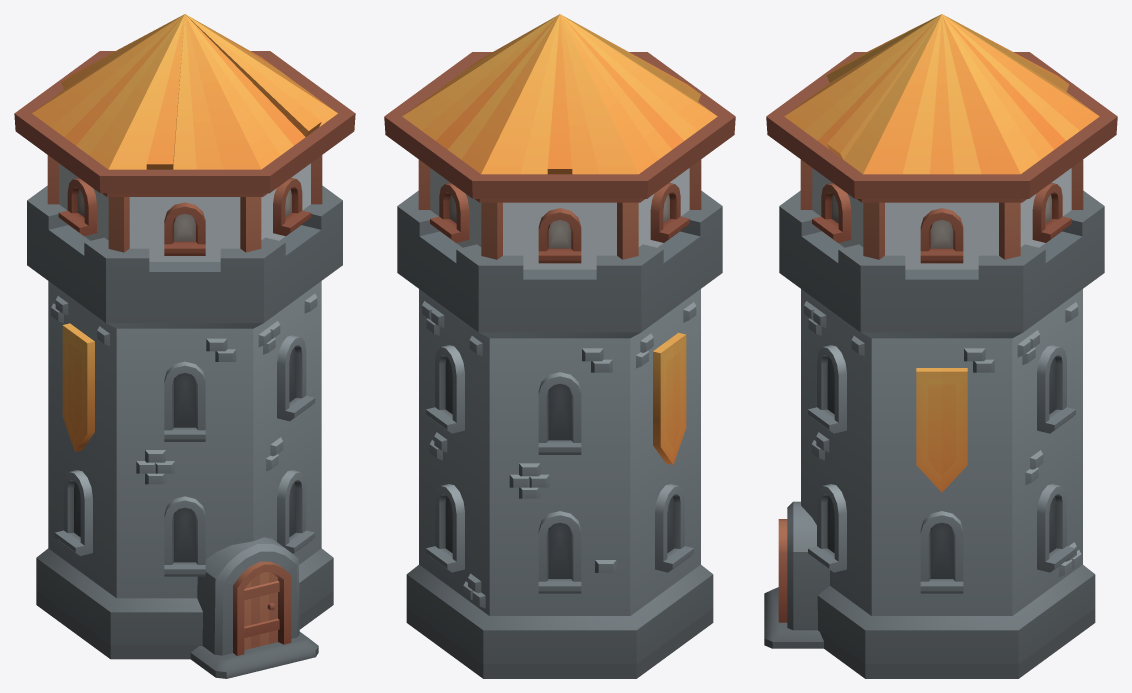
Rendered from building_tower_A_yellow.gltf.
The picture shows the model from 3 angles, left to right: view 1: azimuth 30°, elevation 25°; view 2: azimuth 150°, elevation 25°; view 3: azimuth 270°, elevation 25°; orthographic projection. The views are drawn at different scales.
Visible parts, largest first — view 1: building_tower_A_yellow, building_tower_A_top_yellow; view 2: building_tower_A_yellow, building_tower_A_top_yellow; view 3: building_tower_A_yellow, building_tower_A_top_yellow.
Boxes of the visible parts, x1,y1,x2,y2 form: building_tower_A_yellow: (27, 185, 342, 678); building_tower_A_top_yellow: (14, 14, 355, 261); building_tower_A_yellow: (397, 190, 722, 678); building_tower_A_top_yellow: (384, 14, 735, 269); building_tower_A_yellow: (764, 190, 1104, 678); building_tower_A_top_yellow: (766, 14, 1117, 269).
Size of the model in its own units: 0.9933 by 2.19 by 1.15.
1 material, 1 textured.
